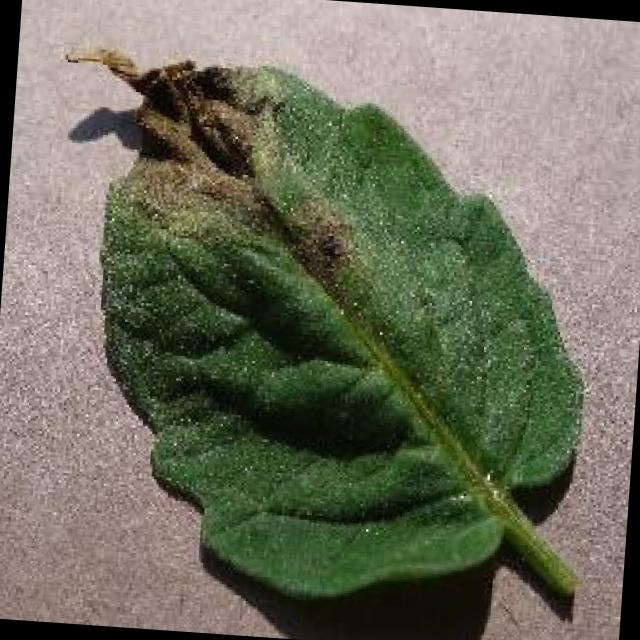Tomato_Late_Blight: (54, 23, 294, 224)
